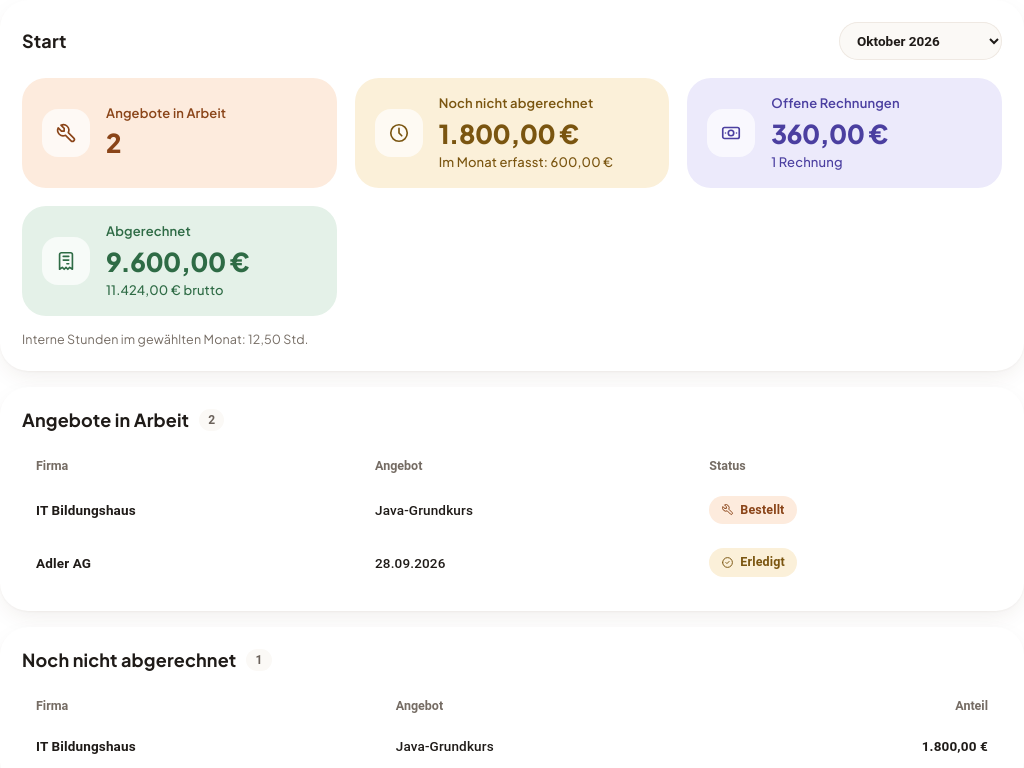
Test: StartseitePage: Zeitraumwahl (Issue #281; #273 Kriterien 1, 2, 5 bis 9) › schreibt das gewaehlte Jahr in die Adresse und laedt es
The image size is (1024, 768).
Select "2026" in the dropdown named "Zeitraum" at (920, 41), box [839,22,1002,60]
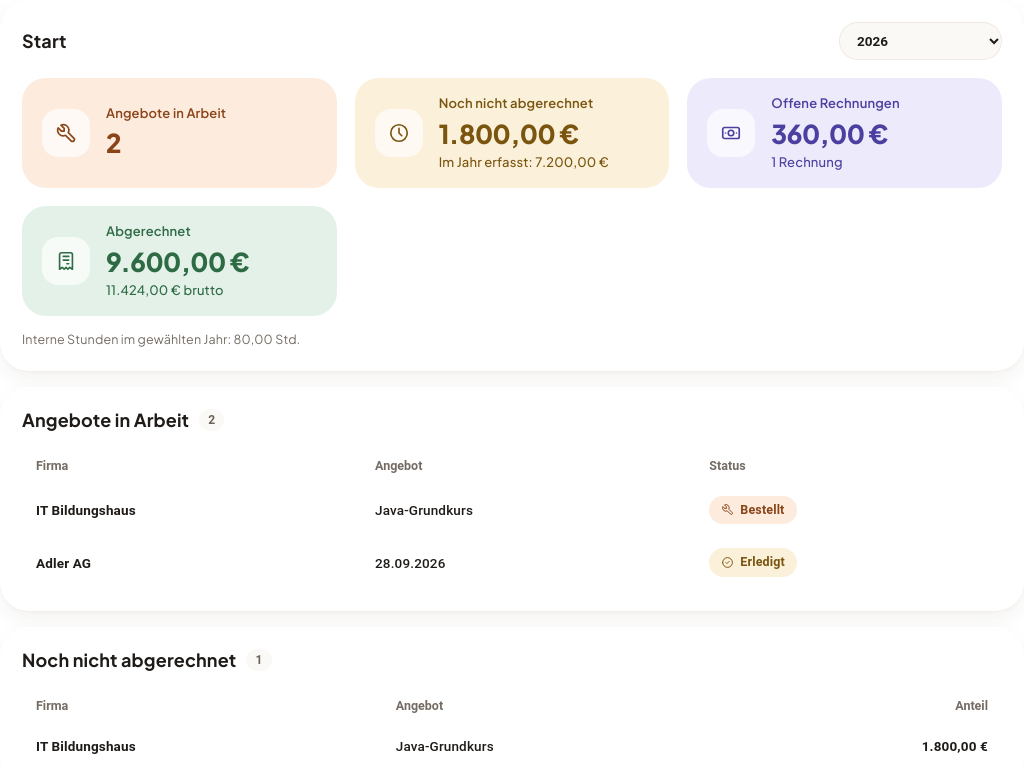
Expected: the dropdown named "Zeitraum" shows "2026", [839,22,1002,60]
